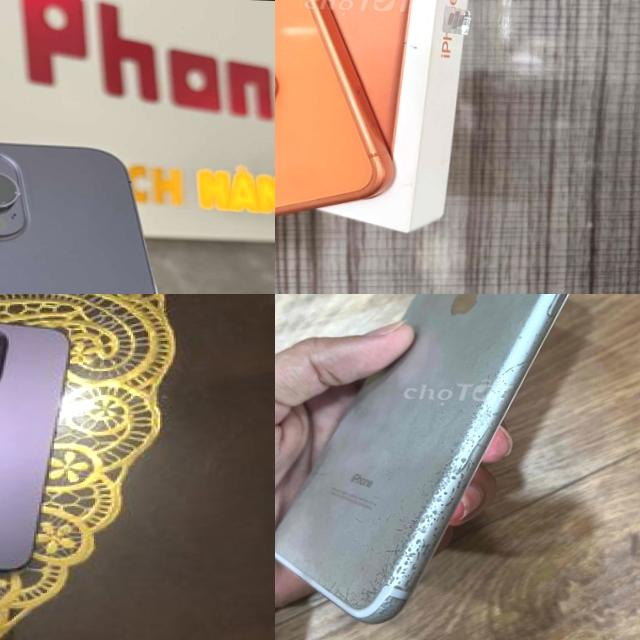gen_14: (0, 133, 234, 294), (0, 300, 76, 583)
gen_17: (275, 0, 411, 232)
gen_7_8: (275, 294, 616, 640)
scratch: (312, 322, 549, 624)
